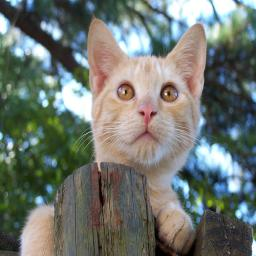catnose: (136, 96, 161, 128)
